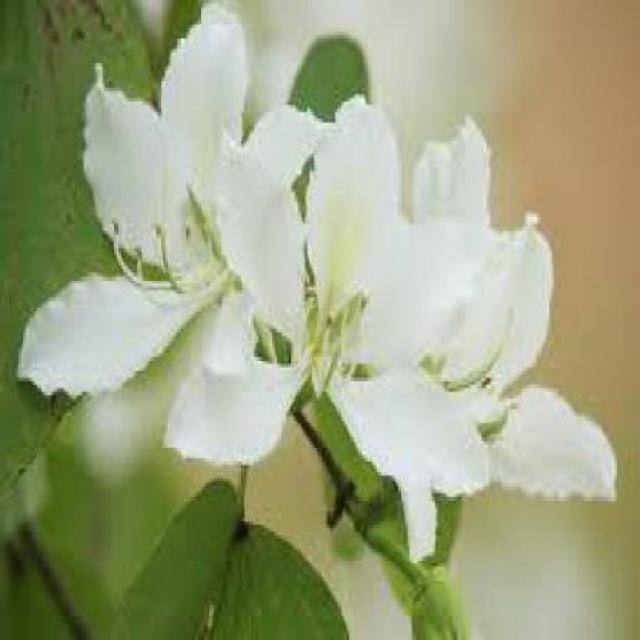flower: (245, 88, 627, 524), (42, 26, 330, 449)
